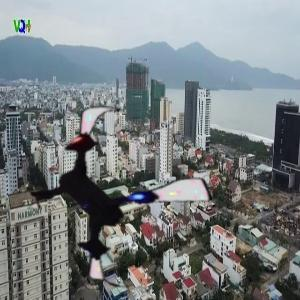drone: (21, 99, 214, 292)
